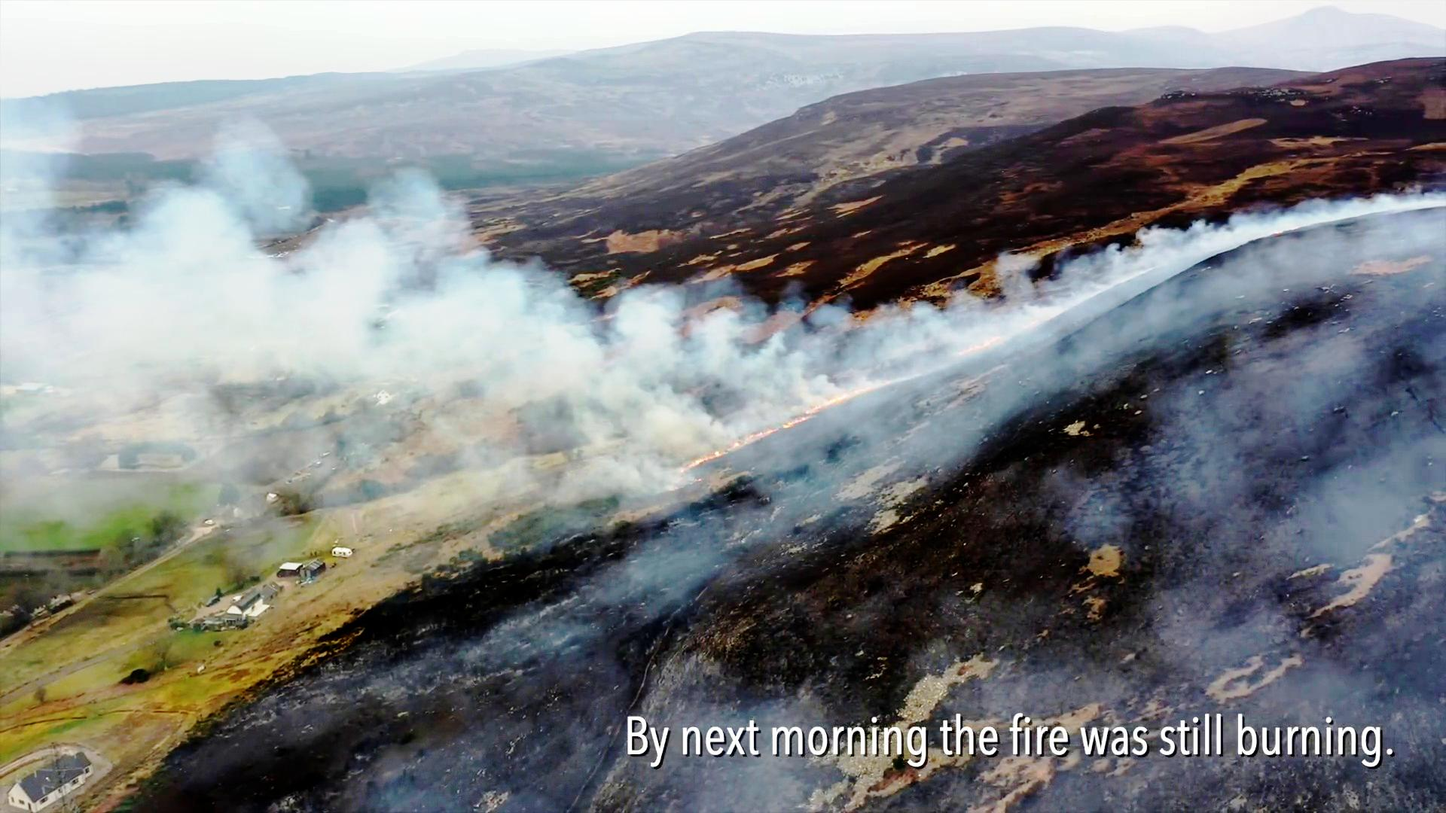smoke: (0, 126, 300, 287), (564, 303, 759, 432), (385, 271, 567, 392), (287, 166, 471, 283), (773, 320, 903, 414), (915, 296, 1034, 371), (1049, 268, 1147, 351), (1177, 239, 1271, 306), (1403, 207, 1407, 210)
